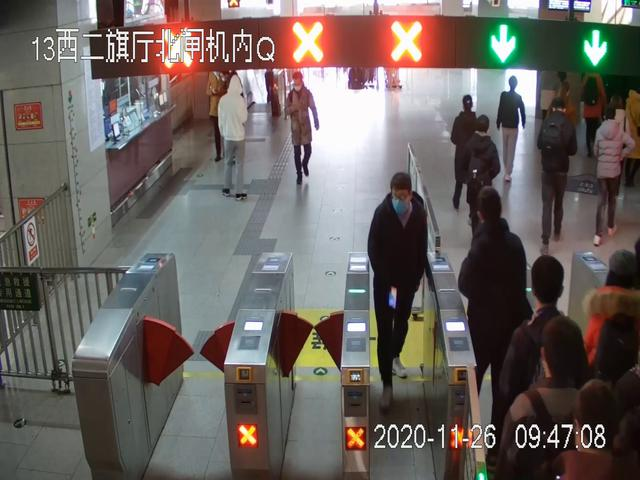person: (500, 258, 589, 480), (457, 187, 533, 439), (505, 320, 617, 480), (367, 173, 431, 405), (592, 107, 636, 246), (540, 97, 576, 252), (217, 76, 252, 202), (465, 115, 502, 233), (283, 71, 320, 184), (452, 96, 484, 209), (496, 75, 526, 184)
